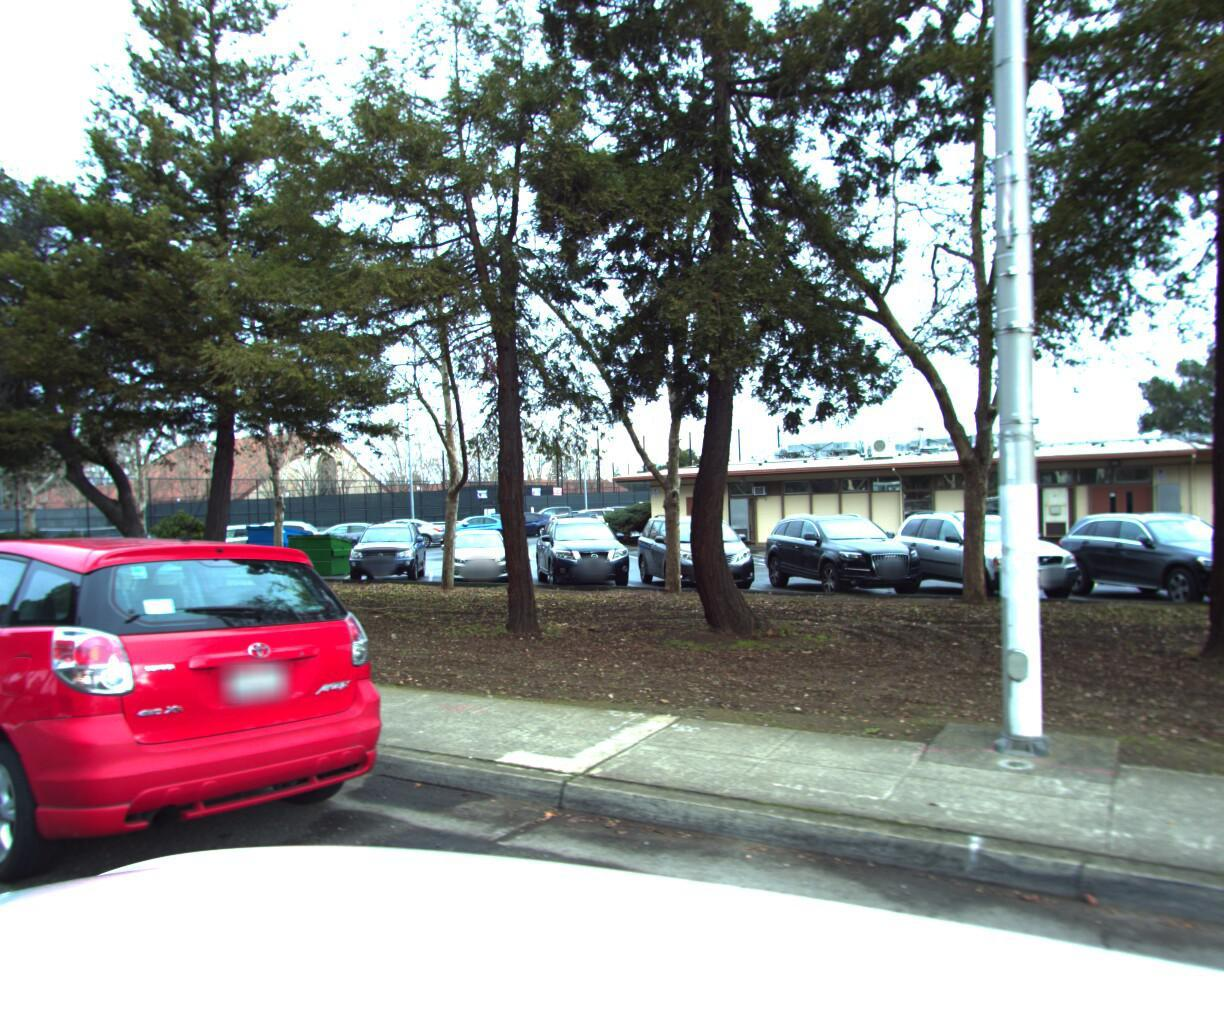car: (0, 524, 431, 965), (0, 543, 41, 774)
